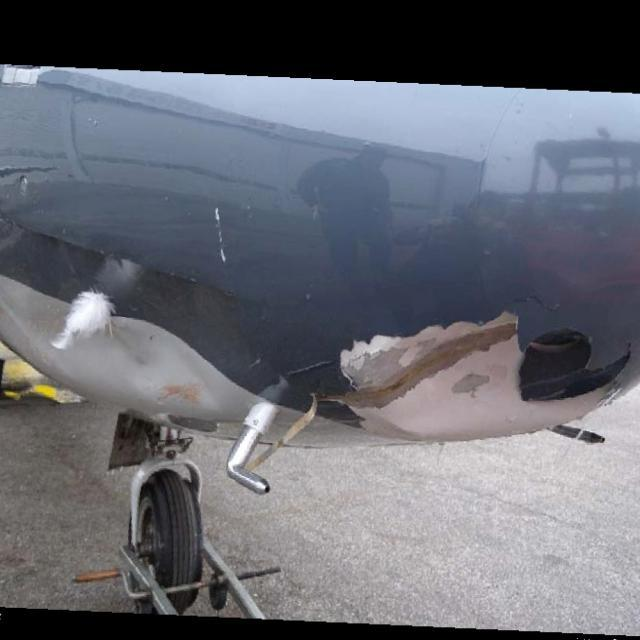crack: (503, 288, 570, 320)
dent: (382, 365, 499, 436), (113, 322, 157, 393), (177, 354, 218, 408)
